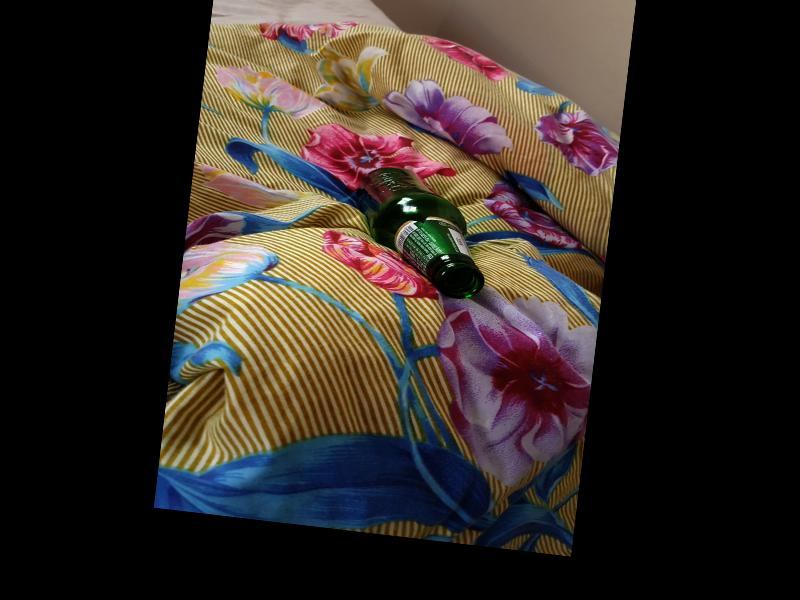Beer: (345, 163, 497, 303)
